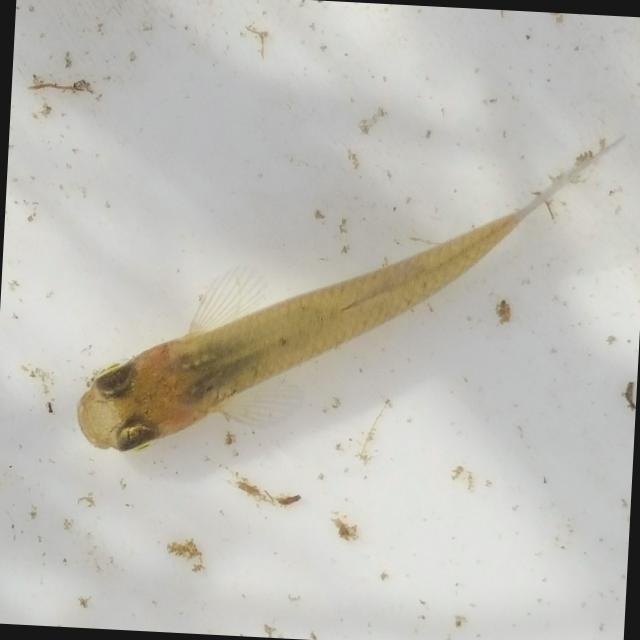Sivrisinek Baligi: (50, 90, 629, 495)
